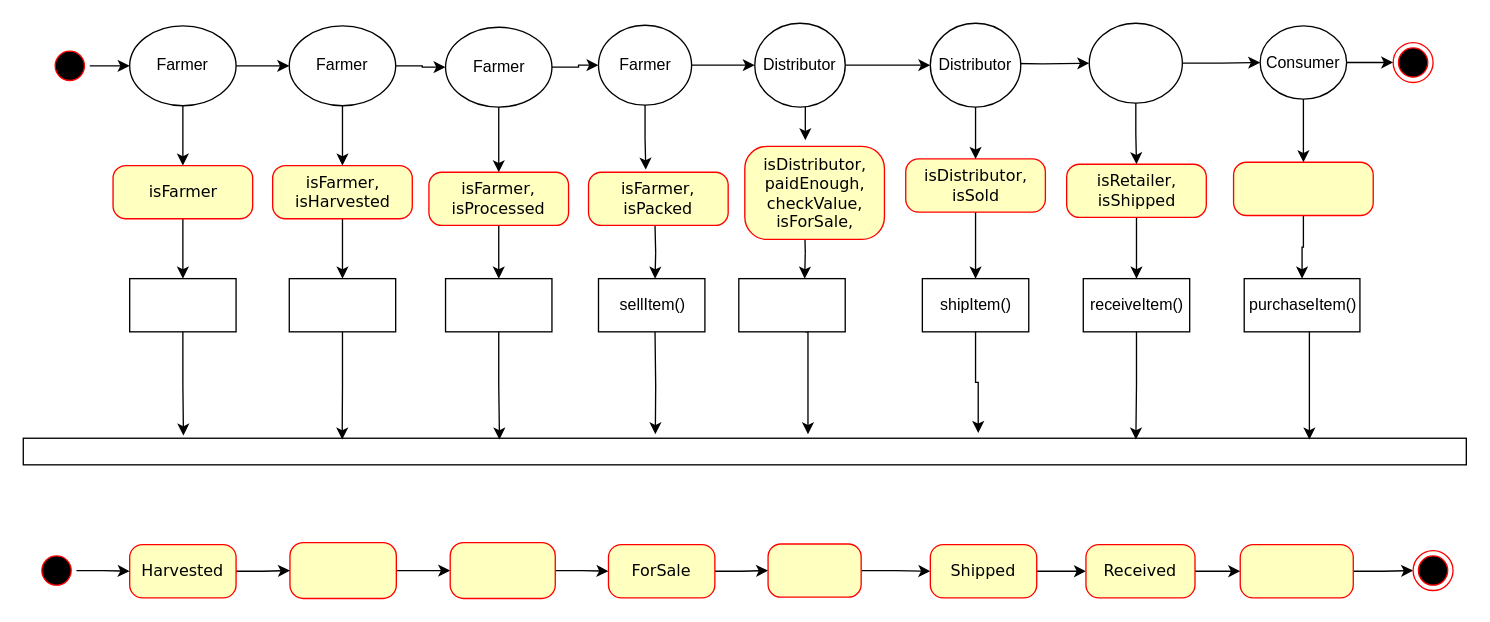
This 1490x622 diagram has some shape labels left out. Each missing label, with the centre of its shape:
"buyItem()" belongs at point (791, 304).
"Coffee States" belongs at point (744, 451).
"harvestItem()" belongs at point (182, 304).
"isConsumer, isReceived" belongs at point (1302, 188).
"Packed" belongs at point (502, 569).
"packItem()" belongs at point (498, 304).
"Processed" belongs at point (342, 569).
"processItem()" belongs at point (342, 304).
"Purchased" belongs at point (1296, 570).
"Retailer" belongs at point (1135, 62).
"Sold" belongs at point (814, 570).
